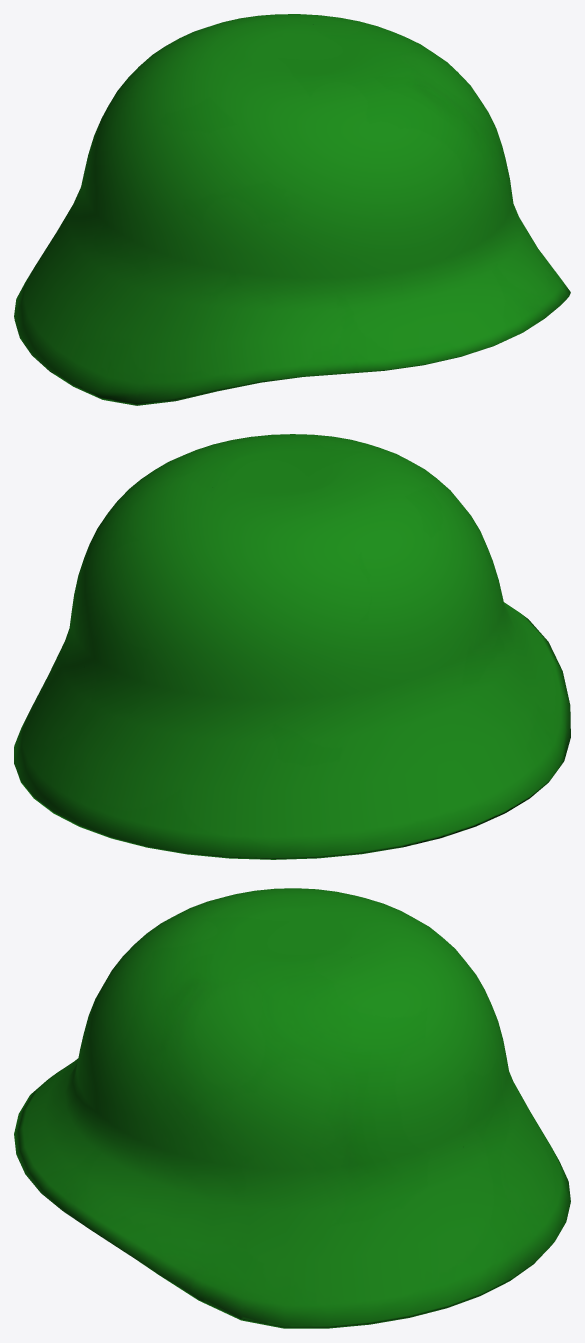
The model's file is planeblend.glb.
The picture shows the model from 3 angles, top to bottom: view 1: azimuth 30°, elevation 25°; view 2: azimuth 150°, elevation 25°; view 3: azimuth 270°, elevation 25°; orthographic projection.
Parts seen in each view (by area): view 1: RLA_helmet; view 2: RLA_helmet; view 3: RLA_helmet.
Boxes of the visible parts, bbox=[...] form: RLA_helmet: bbox=[14, 14, 570, 405]; RLA_helmet: bbox=[14, 434, 570, 859]; RLA_helmet: bbox=[14, 888, 570, 1328].
Size of the model in its own units: 0.3136 by 0.1777 by 0.3137.
Materials: 1 (1 with a texture image).
